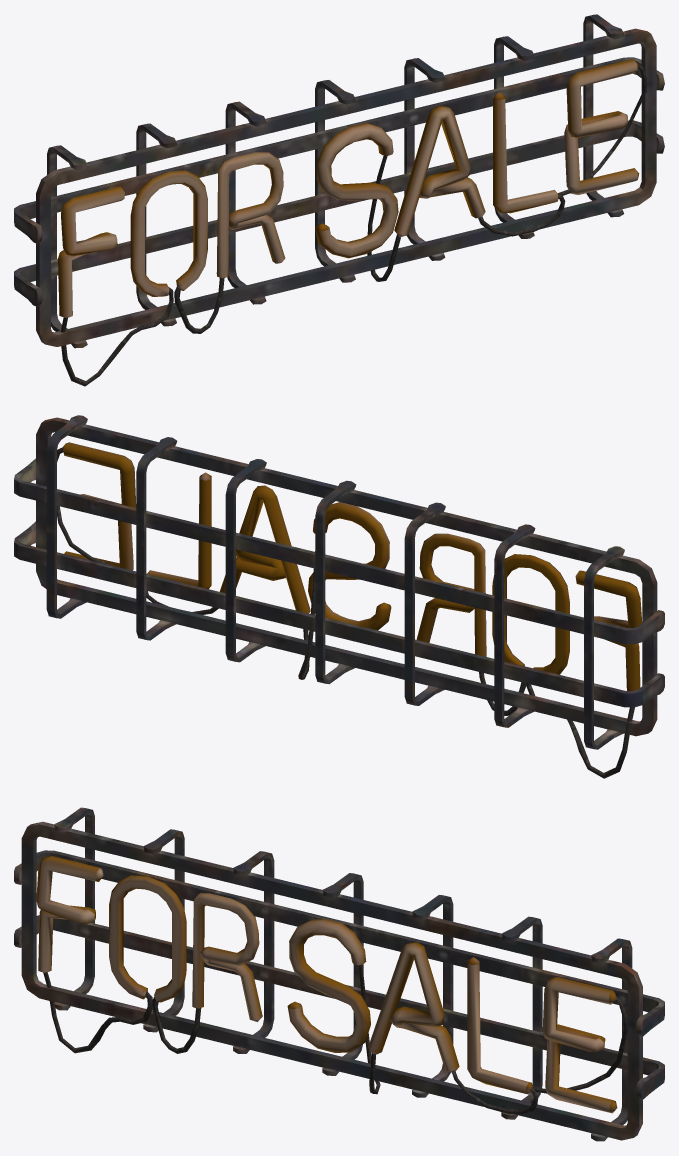
The model's file is neon_sign_shop_for-sale.glb.
The picture shows the model from 3 angles, top to bottom: view 1: azimuth 30°, elevation 25°; view 2: azimuth 150°, elevation 25°; view 3: azimuth 330°, elevation 25°; orthographic projection.
Visible parts, largest first — view 1: neon_sign_shop_FOR-SALE; view 2: neon_sign_shop_FOR-SALE; view 3: neon_sign_shop_FOR-SALE.
Part boxes in pixels (left/top/right/bottom): neon_sign_shop_FOR-SALE: left=14, top=14, right=664, bottom=386; neon_sign_shop_FOR-SALE: left=14, top=415, right=664, bottom=778; neon_sign_shop_FOR-SALE: left=14, top=807, right=664, bottom=1141.
Bounding box in the file's own units: 1.02 × 0.3553 × 0.1098.
1 material, 1 textured.
